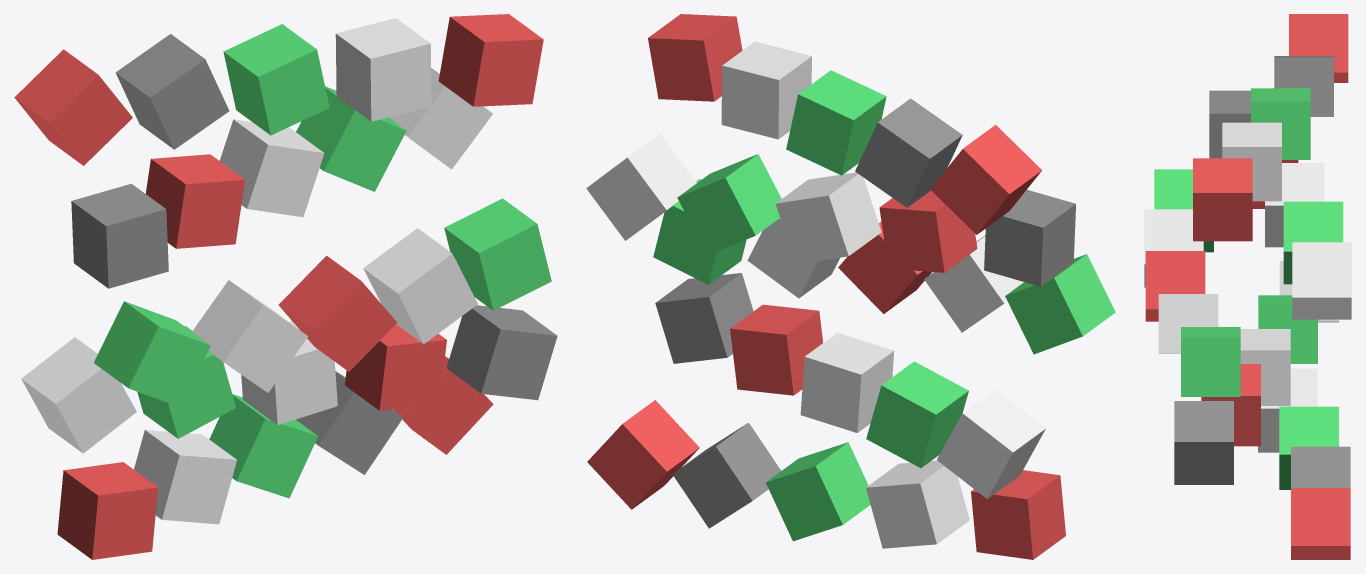
The model's file is double-pendulum_animated_shape.glb.
The picture shows the model from 3 angles, left to right: view 1: azimuth 30°, elevation 25°; view 2: azimuth 150°, elevation 25°; view 3: azimuth 270°, elevation 25°; orthographic projection. The views are drawn at different scales.
Visible parts, largest first — view 1: Cube.015, Cube.023, Cube, Cube.022, Cube.024, Cube.021, Cube.014, Cube.009, Cube.013, Cube.005, Cube.010, Cube.020 (+13 smaller); view 2: Cube.006, Cube.017, Cube.022, Cube.021, Cube.005, Cube.001, Cube.007, Cube.023, Cube.015, Cube.002, Cube.020, Cube (+13 smaller); view 3: Cube.009, Cube.024, Cube.019, Cube.004, Cube.014, Cube.023, Cube.022, Cube.007, Cube.012, Cube.018, Cube.002, Cube.020 (+11 smaller).
Boxes of the visible parts, bbox=[...] form: Cube.015: bbox=[71, 183, 168, 288]; Cube.023: bbox=[335, 18, 431, 121]; Cube: bbox=[57, 462, 158, 559]; Cube.022: bbox=[223, 24, 329, 135]; Cube.024: bbox=[438, 14, 543, 106]; Cube.021: bbox=[115, 34, 229, 149]; Cube.014: bbox=[444, 198, 551, 310]; Cube.009: bbox=[446, 305, 557, 400]; Cube.013: bbox=[363, 228, 477, 344]; Cube.005: bbox=[21, 337, 136, 453]; Cube.010: bbox=[94, 301, 210, 407]; Cube.020: bbox=[14, 49, 132, 165]; Cube.006: bbox=[866, 361, 968, 467]; Cube.017: bbox=[775, 172, 881, 264]; Cube.022: bbox=[786, 70, 886, 175]; Cube.021: bbox=[855, 98, 962, 207]; Cube.005: bbox=[937, 389, 1045, 499]; Cube.001: bbox=[866, 460, 969, 548]; Cube.007: bbox=[800, 332, 894, 432]; Cube.023: bbox=[721, 41, 811, 139]; Cube.015: bbox=[984, 189, 1075, 286]; Cube.002: bbox=[765, 442, 870, 541]; Cube.020: bbox=[930, 125, 1041, 234]; Cube: bbox=[971, 470, 1065, 559]; Cube.009: bbox=[1174, 401, 1233, 484]; Cube.024: bbox=[1193, 158, 1252, 241]; Cube.019: bbox=[1292, 242, 1351, 319]; Cube.004: bbox=[1291, 488, 1350, 559]; Cube.014: bbox=[1181, 327, 1240, 396]; Cube.023: bbox=[1222, 122, 1281, 201]; Cube.022: bbox=[1251, 88, 1310, 159]; Cube.007: bbox=[1240, 329, 1290, 405]; Cube.012: bbox=[1145, 251, 1205, 321]; Cube.018: bbox=[1283, 201, 1343, 284]; Cube.002: bbox=[1279, 406, 1338, 489]; Cube.020: bbox=[1289, 14, 1348, 82].
Size of the model in its own units: 2.96 by 2.96 by 1.39.
